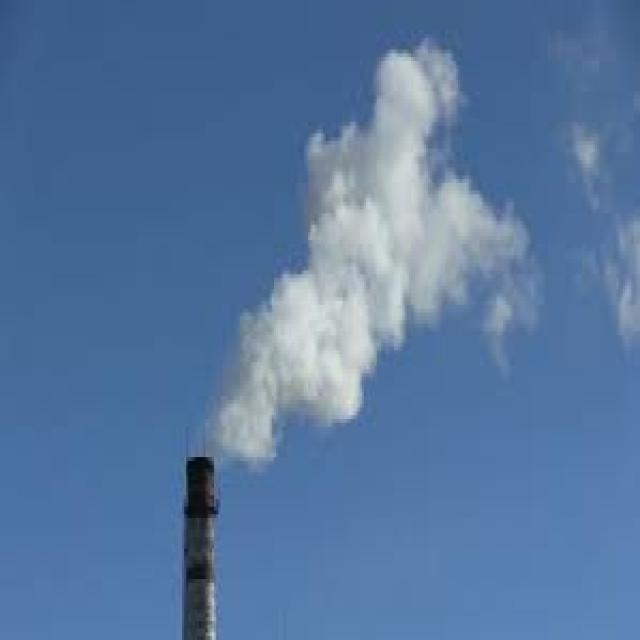Smoke: (212, 45, 543, 470)
